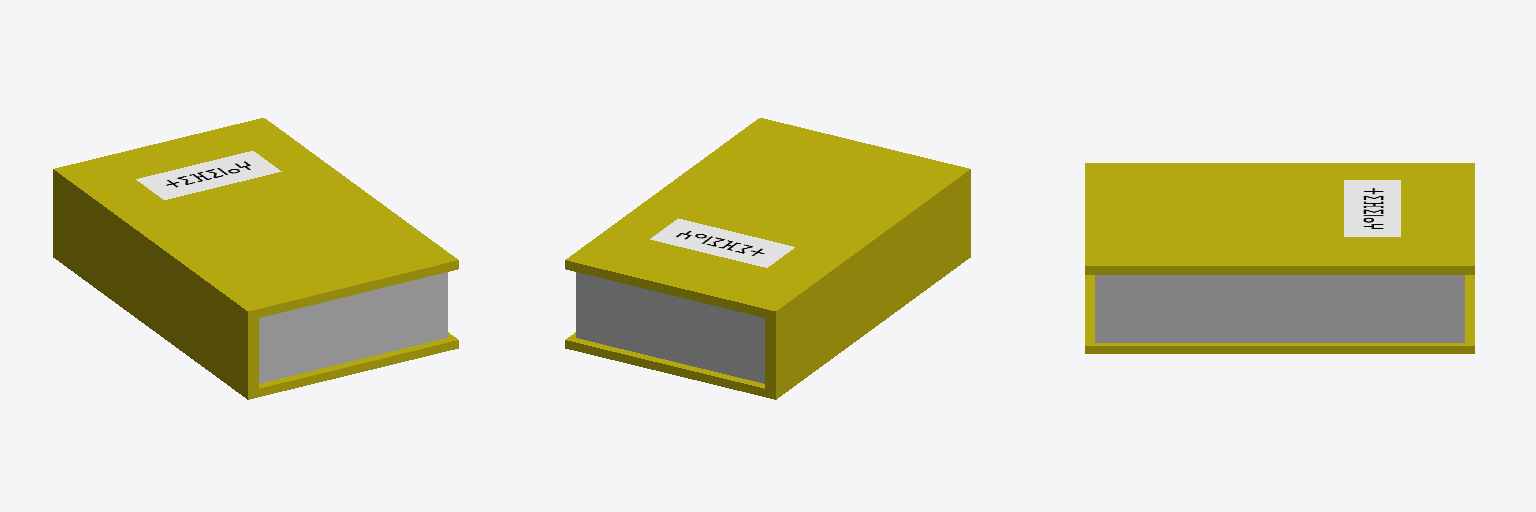
3 views of the same model, side by side, from view 1: azimuth 30°, elevation 25°; view 2: azimuth 150°, elevation 25°; view 3: azimuth 270°, elevation 25° (orthographic).
Parts seen in each view (by area): view 1: Kaft.004_Cube.005, Inhoud.004_Cube.008, Berber; view 2: Kaft.004_Cube.005, Inhoud.004_Cube.008, Berber; view 3: Kaft.004_Cube.005, Inhoud.004_Cube.008, Berber.
Part boxes in pixels (left/top/right/bottom): Kaft.004_Cube.005: left=53, top=118, right=458, bottom=399; Inhoud.004_Cube.008: left=259, top=272, right=447, bottom=383; Berber: left=136, top=151, right=281, bottom=199; Kaft.004_Cube.005: left=565, top=118, right=970, bottom=399; Inhoud.004_Cube.008: left=576, top=272, right=764, bottom=383; Berber: left=650, top=218, right=794, bottom=267; Kaft.004_Cube.005: left=1085, top=163, right=1474, bottom=353; Inhoud.004_Cube.008: left=1095, top=275, right=1464, bottom=342; Berber: left=1344, top=180, right=1400, bottom=236.
Bounding box in the file's own units: 0.5 × 0.2123 × 0.8.
Materials: 3 (1 with a texture image).